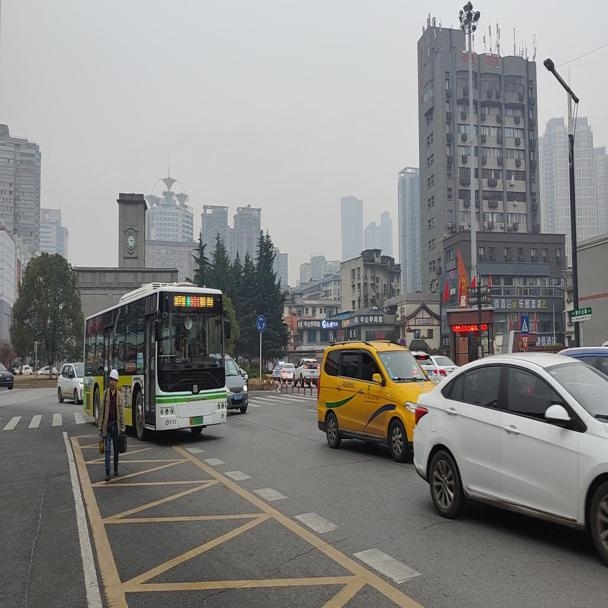bus: (82, 277, 229, 441)
screen: (190, 296, 199, 307)
